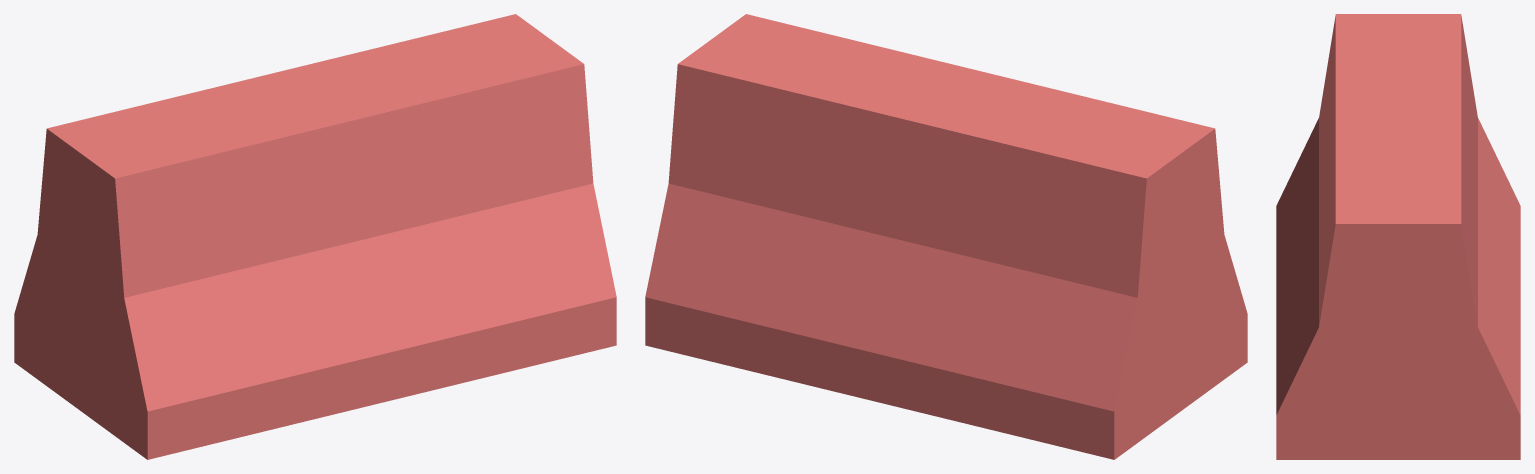
File: barrierRed.glb
The picture shows the model from 3 angles, left to right: view 1: azimuth 30°, elevation 25°; view 2: azimuth 150°, elevation 25°; view 3: azimuth 270°, elevation 25°; orthographic projection. The views are drawn at different scales.
Visible parts, largest first — view 1: barrierRed(Clone); view 2: barrierRed(Clone); view 3: barrierRed(Clone).
Part boxes in pixels (box(x1,y1,x2,y2)): barrierRed(Clone): box(14, 14, 616, 459); barrierRed(Clone): box(645, 14, 1247, 459); barrierRed(Clone): box(1276, 14, 1520, 459).
Size of the model in its own units: 0.25 by 0.1312 by 0.123.
